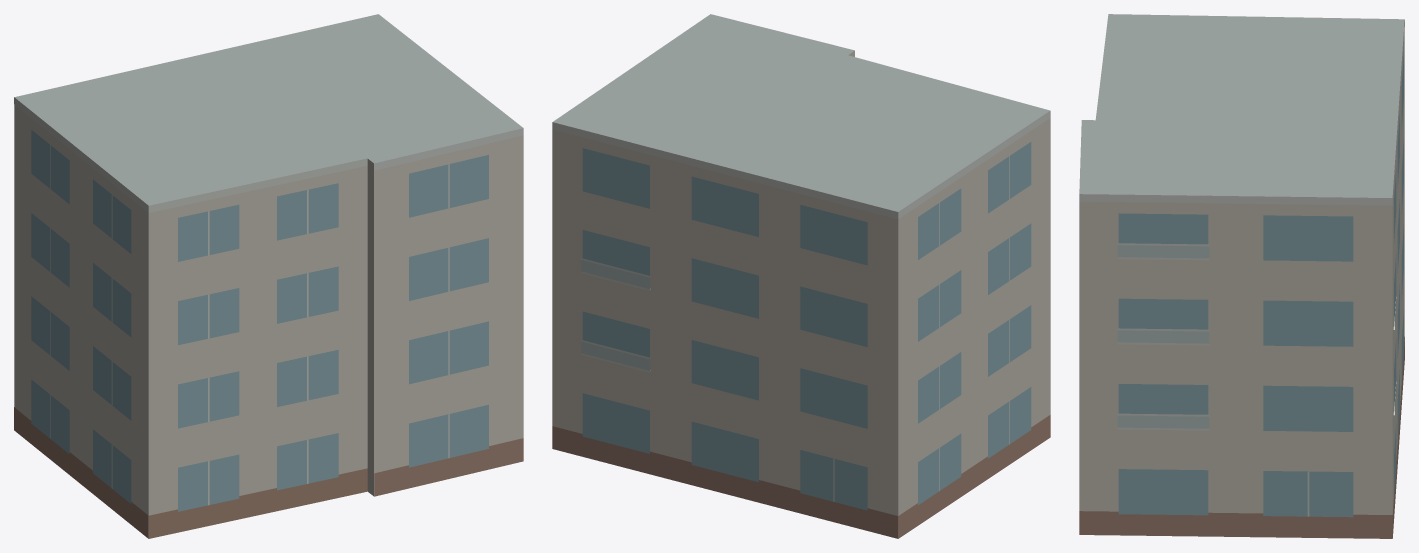
File: survey-upis-32744769.glb
3 views of the same model, side by side, from view 1: azimuth 30°, elevation 25°; view 2: azimuth 150°, elevation 25°; view 3: azimuth 270°, elevation 25° (orthographic). The views are drawn at different scales.
Visible parts, largest first — view 1: survey-upis-32744769.tmp; view 2: survey-upis-32744769.tmp; view 3: survey-upis-32744769.tmp.
Boxes of the visible parts, x1,y1,x2,y2 form: survey-upis-32744769.tmp: (14,14,523,538); survey-upis-32744769.tmp: (552,14,1050,538); survey-upis-32744769.tmp: (1079,14,1404,538).
Size of the model in its own units: 12.87 by 11.1 by 9.62.
